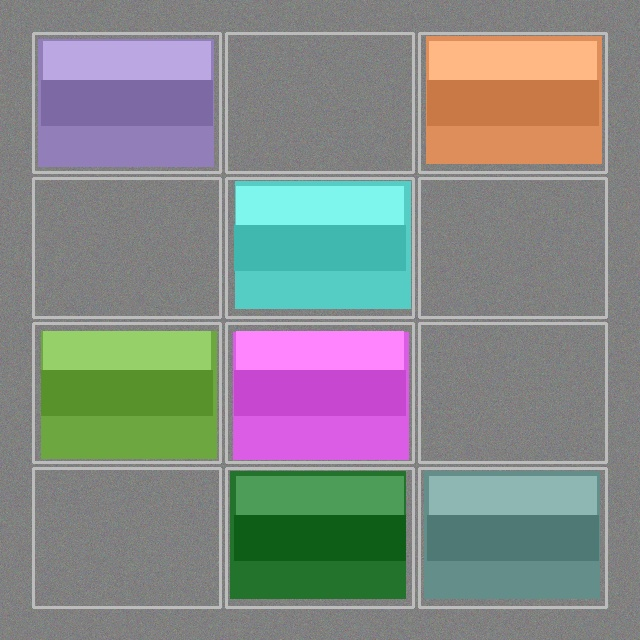space-empty: (228, 35, 411, 170), (35, 180, 218, 315), (421, 180, 604, 315), (421, 325, 604, 460), (35, 470, 218, 605)
space-occupied: (35, 35, 218, 170), (421, 35, 604, 170), (228, 180, 411, 315), (35, 325, 218, 460), (228, 325, 411, 460), (228, 470, 411, 605), (421, 470, 604, 605)
